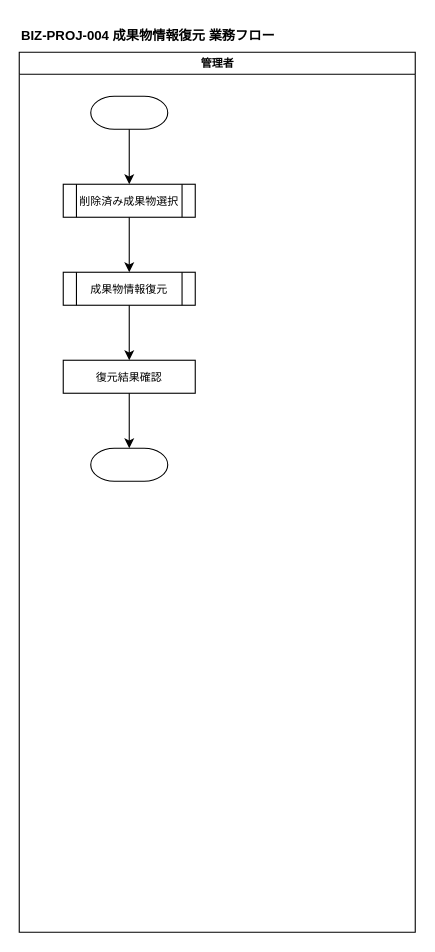
Image size: 435x952. Some labels were removed from this diagram. Each missing label, with the centre of its shape:
"END" goes at (x=129, y=464).
"START" goes at (x=129, y=112).
